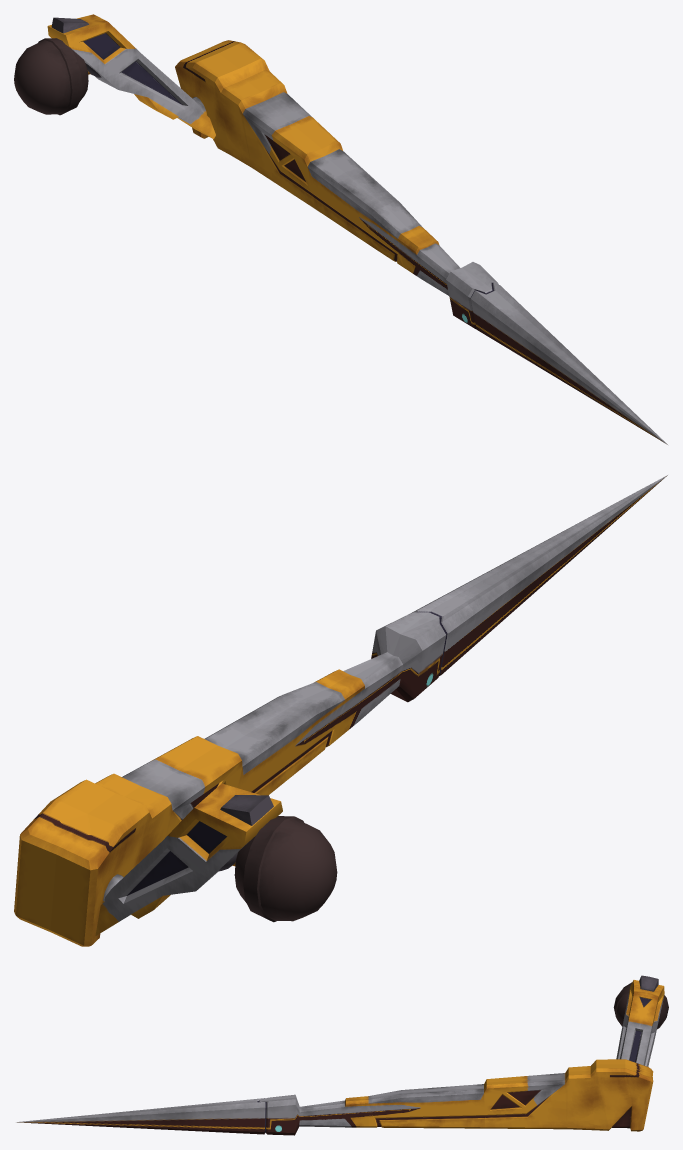
Rendered from Chariot03_zuizi01.FBX.
3 views of the same model, one above another, from view 1: azimuth 30°, elevation 25°; view 2: azimuth 150°, elevation 25°; view 3: azimuth 270°, elevation 25° (orthographic). The views are drawn at different scales.
Visible parts, largest first — view 1: Chariot03_zuizi01, Chariot03_zuizi01_huai; view 2: Chariot03_zuizi01, Chariot03_zuizi01_huai; view 3: Chariot03_zuizi01, Chariot03_zuizi01_huai.
Boxes of the visible parts, <box> form: Chariot03_zuizi01: <box>14,14,459,295</box>; Chariot03_zuizi01_huai: <box>446,262,667,444</box>; Chariot03_zuizi01: <box>14,652,402,946</box>; Chariot03_zuizi01_huai: <box>371,475,667,702</box>; Chariot03_zuizi01: <box>299,975,668,1131</box>; Chariot03_zuizi01_huai: <box>16,1094,299,1135</box>.
Size of the model in its own units: 1.74 by 1.08 by 6.13.
